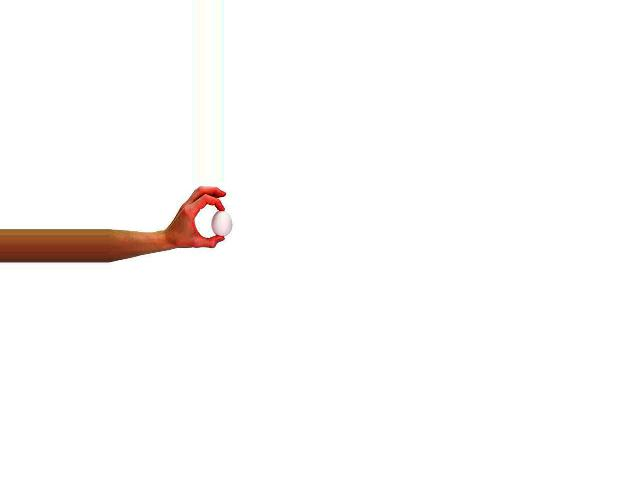egg: (210, 210, 232, 236)
